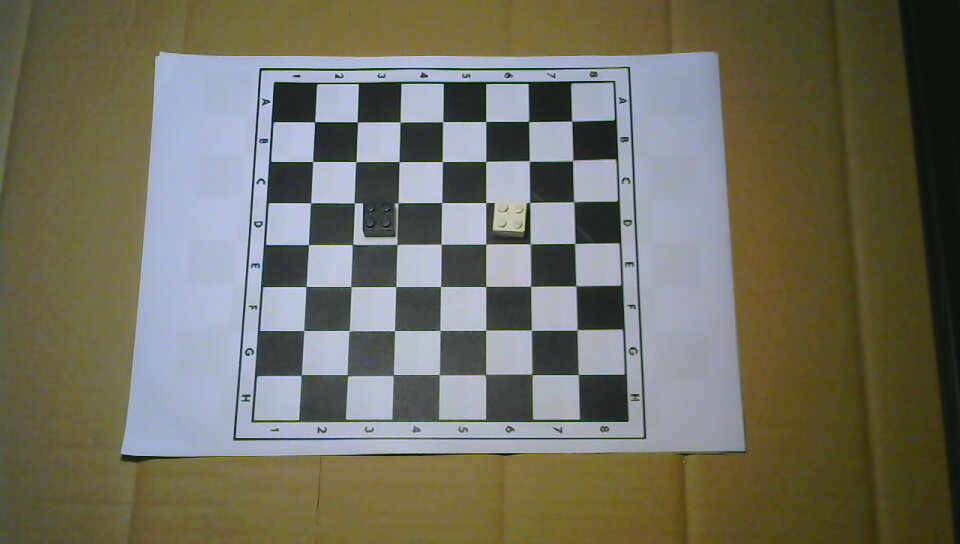bp: (361, 201, 397, 239)
wp: (490, 199, 528, 238)
